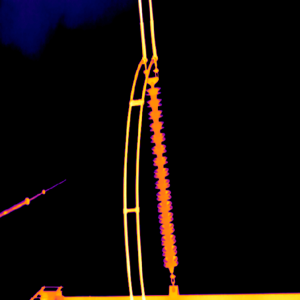insulator: (145, 79, 177, 270)
